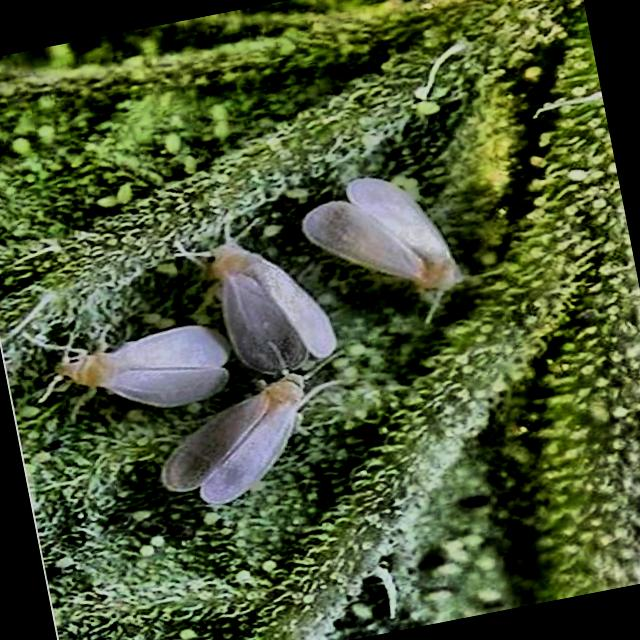egg: (97, 183, 132, 207), (139, 535, 164, 554), (142, 313, 173, 328), (414, 100, 440, 115), (155, 261, 178, 277), (54, 557, 72, 574), (202, 511, 221, 525), (262, 225, 282, 237), (347, 344, 366, 355), (332, 357, 349, 368), (179, 629, 196, 639), (261, 560, 276, 571)
whitefly: (161, 373, 308, 504), (302, 179, 459, 289), (211, 243, 335, 374), (65, 325, 229, 407)
